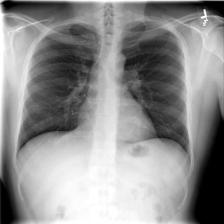normal: (13, 17, 196, 170)
